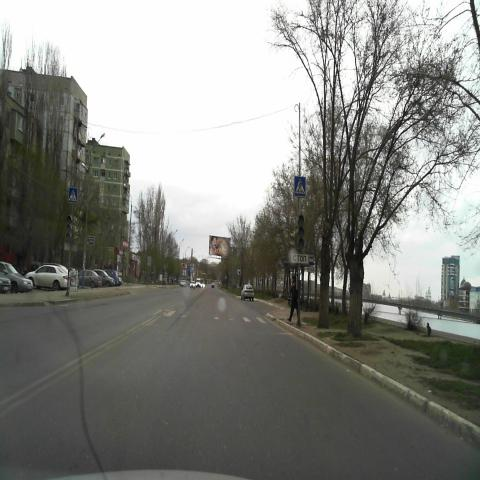6_16: (290, 253, 308, 263)
